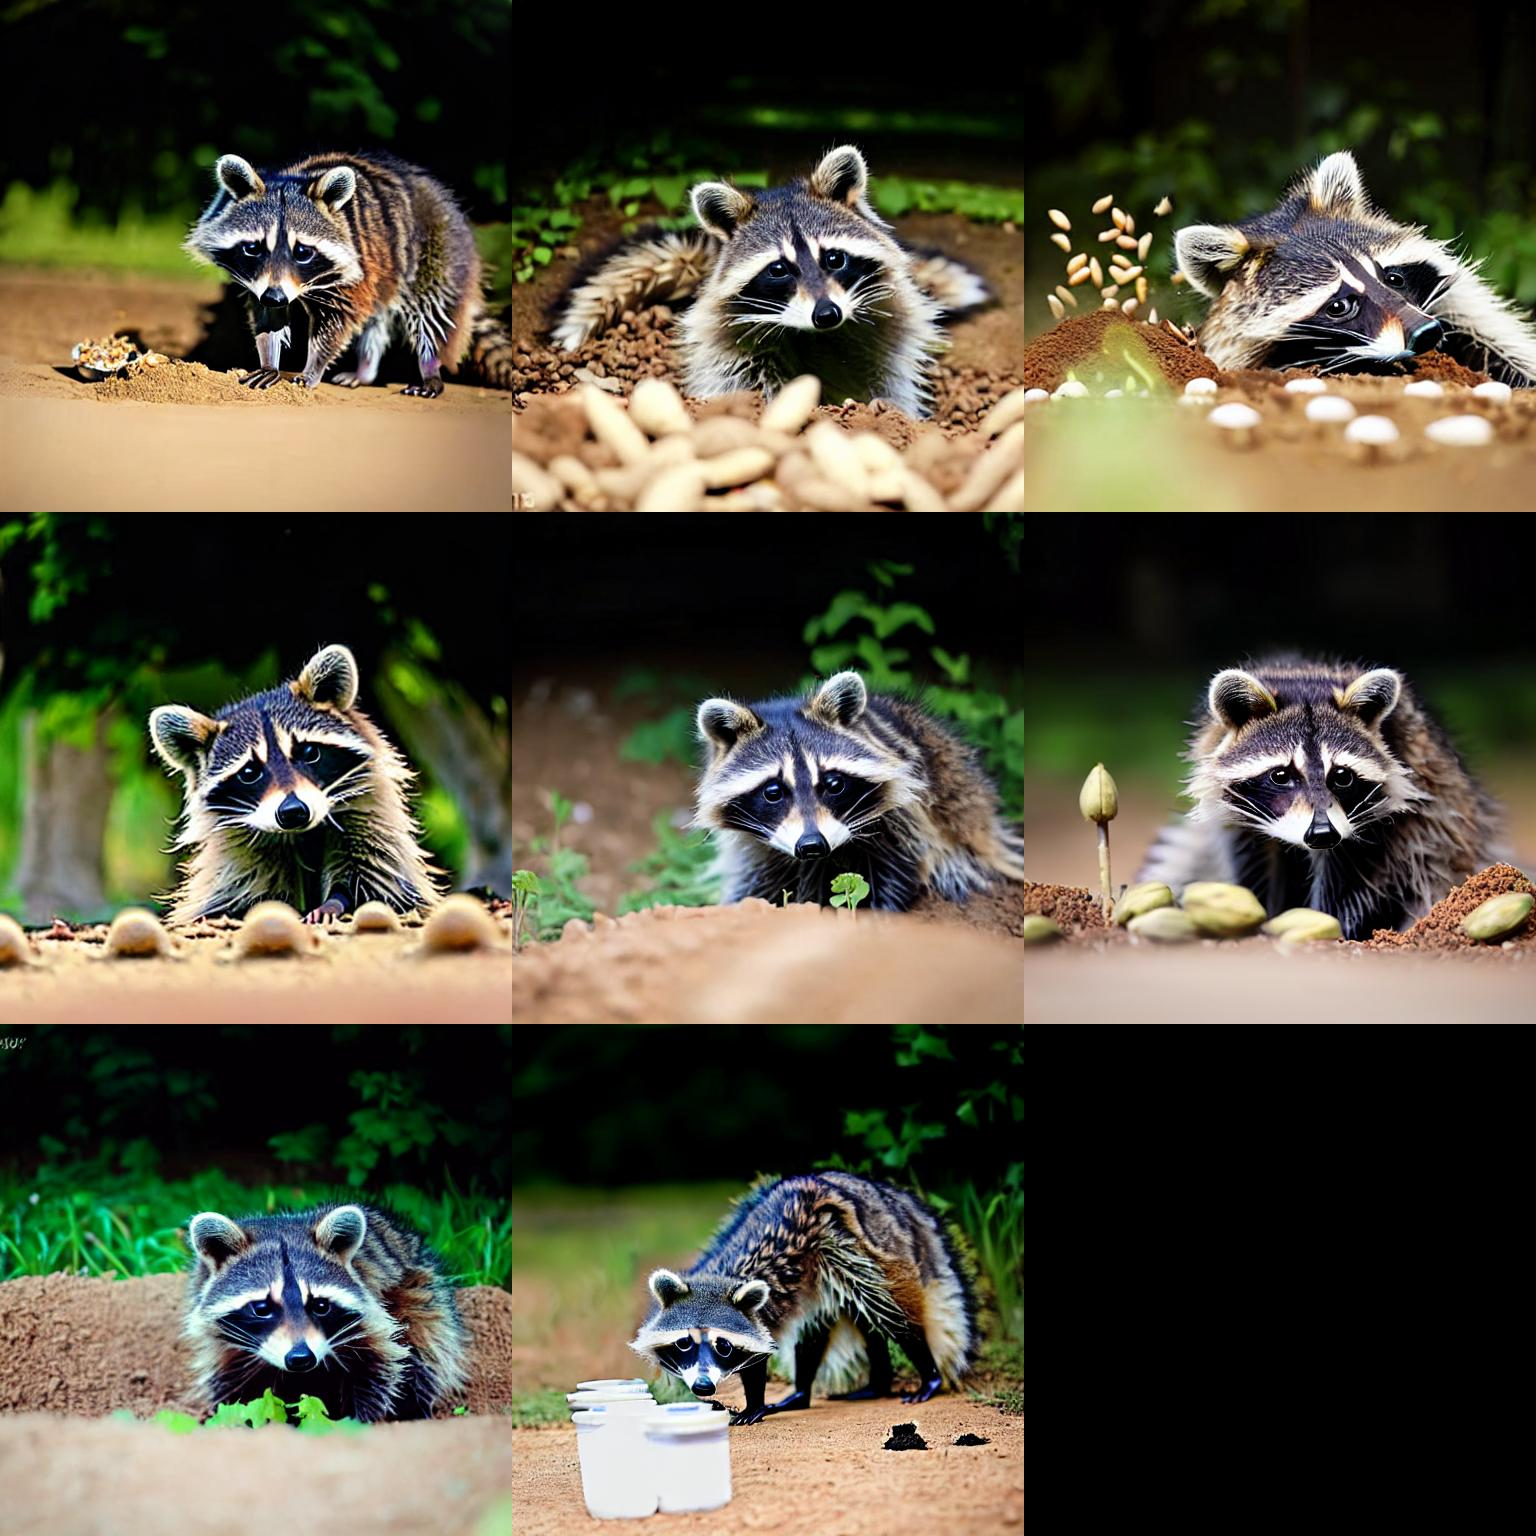raccoon: (172, 132, 506, 404), (1165, 145, 1536, 388), (1155, 648, 1499, 904), (145, 634, 437, 914), (665, 132, 947, 411), (684, 661, 1017, 895), (632, 1151, 979, 1371), (180, 1184, 467, 1421)
